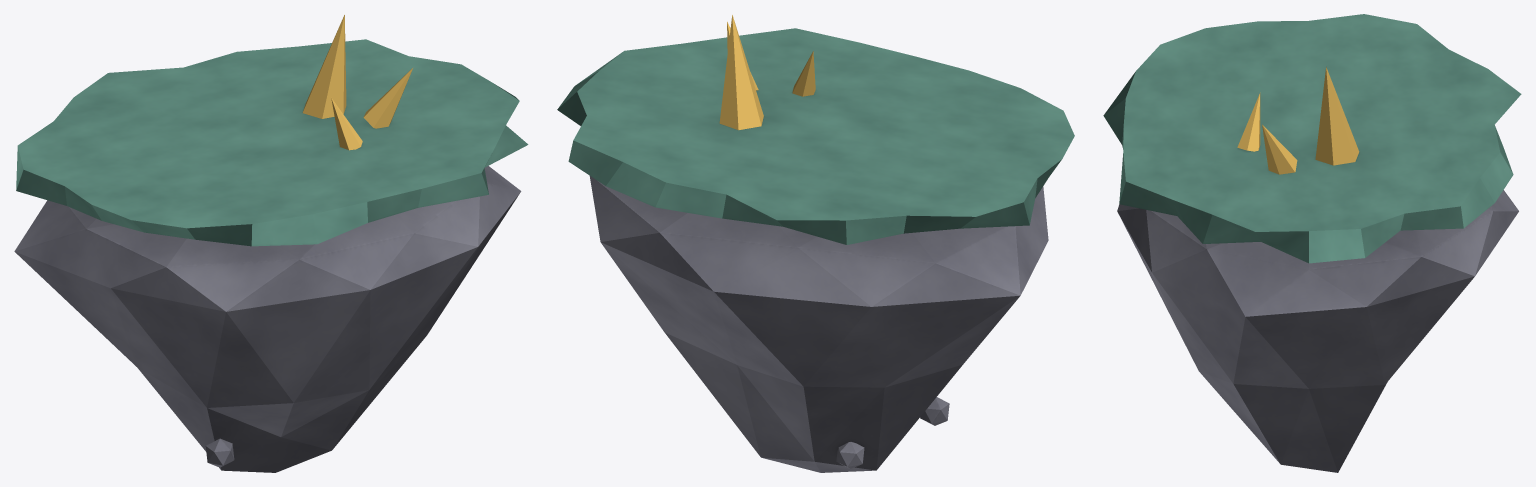
Rendered from BG_Isle.obj.
3 views of the same model, side by side, from view 1: azimuth 30°, elevation 25°; view 2: azimuth 150°, elevation 25°; view 3: azimuth 270°, elevation 25° (orthographic). The views are drawn at different scales.
Visible parts, largest first — view 1: BG_Isle; view 2: BG_Isle; view 3: BG_Isle.
Boxes of the visible parts, x1,y1,x2,y2 form: BG_Isle: [14, 15, 528, 472]; BG_Isle: [557, 15, 1074, 472]; BG_Isle: [1103, 14, 1521, 472].
Bounding box in the file's own units: 1 × 0.8799 × 0.7612.
Materials: 1 (1 with a texture image).
